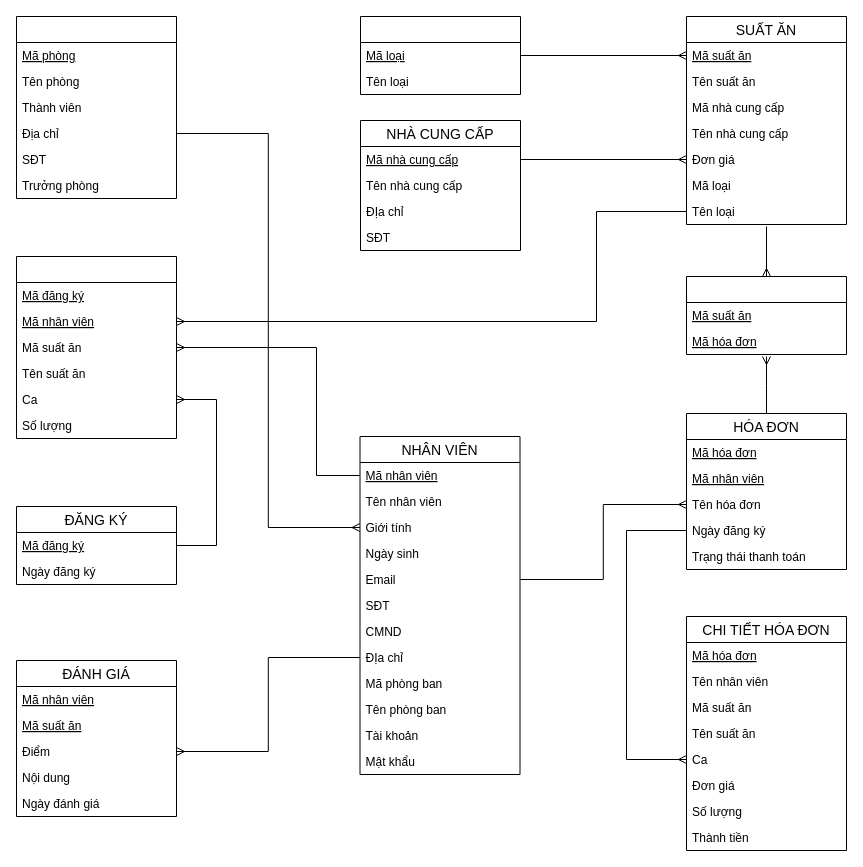
The diagram is 863 pixels wide and 867 high, and some of its shapes have lost their labels. The shapes that lost their labels are listed below. From the top down, each one's box as (x1, y1, x2, y2) in pixels, then its label:
(360, 16, 520, 94): LOẠI SUẤT ĂN
(16, 16, 176, 198): PHÒNG BAN
(686, 276, 846, 354): SUẤT ĂN - HÓA ĐƠN
(16, 256, 176, 438): CHI TIẾT ĐĂNG KÝ
